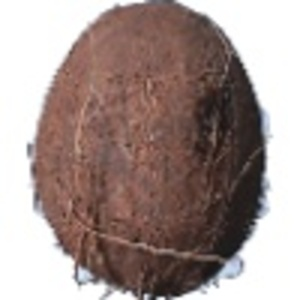coco: (27, 1, 272, 300)
